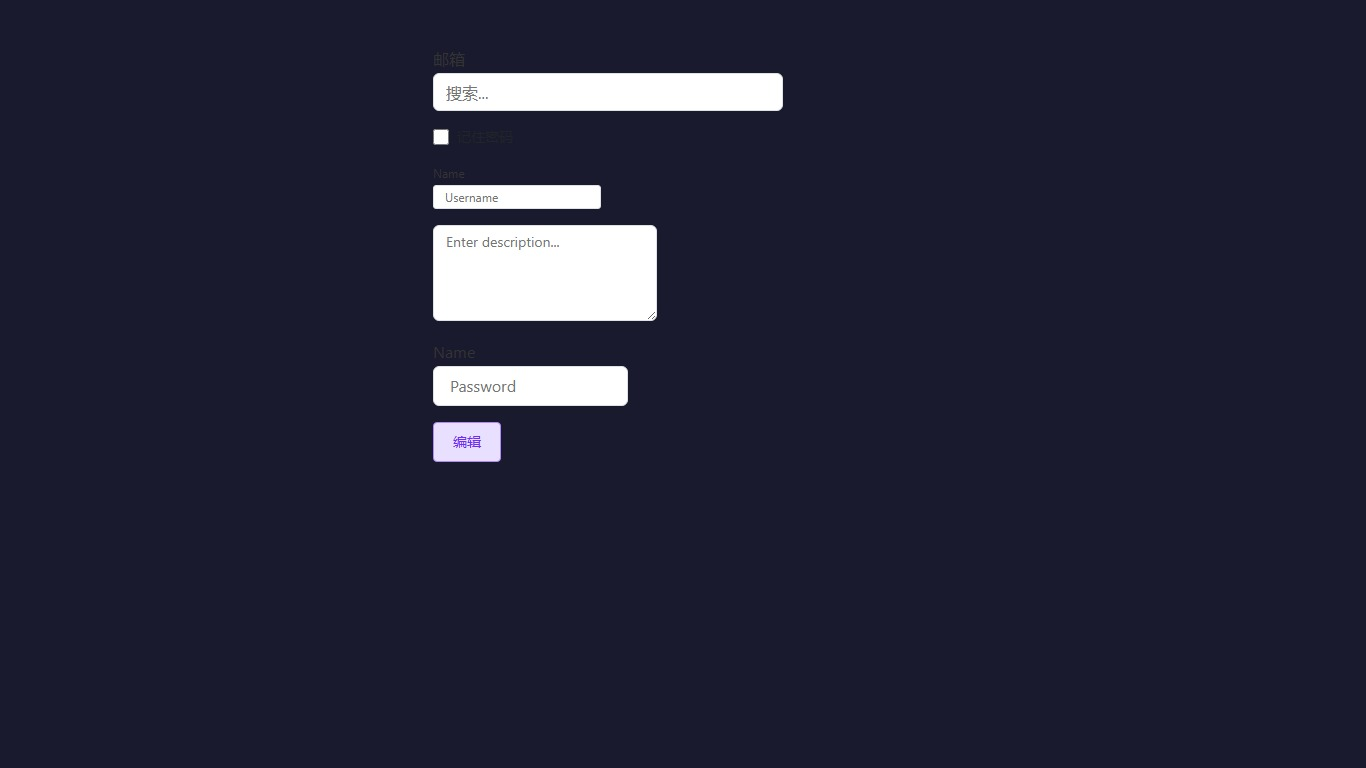button: (433, 422, 501, 462)
checkbox: (433, 128, 449, 144)
icon: (457, 127, 513, 146)
input: (433, 73, 783, 111), (433, 366, 628, 405), (433, 184, 601, 208)
radio: (433, 127, 513, 146)
textarea: (433, 225, 657, 321)
